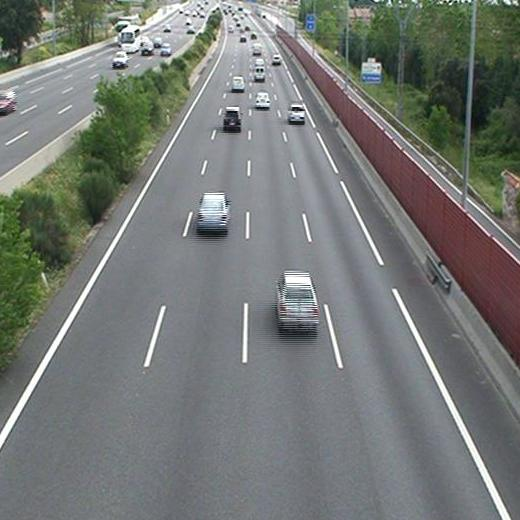car: (276, 272, 319, 327), (198, 193, 229, 229), (223, 107, 241, 127), (287, 105, 304, 121), (255, 92, 271, 107), (231, 78, 245, 90), (271, 55, 280, 64), (255, 58, 265, 65)
van: (255, 66, 264, 81), (253, 43, 261, 56)
